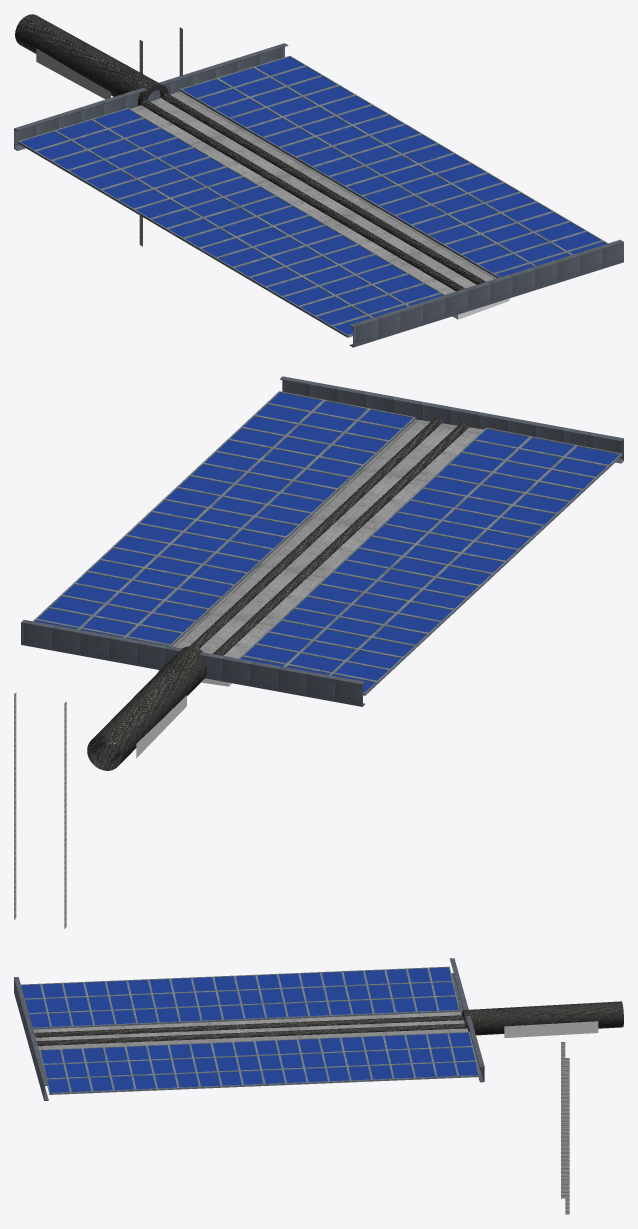
Rendered from Solarteilgr.dae.
3 views of the same model, one above another, from view 1: azimuth 30°, elevation 25°; view 2: azimuth 150°, elevation 25°; view 3: azimuth 270°, elevation 25° (orthographic). The views are drawn at different scales.
Visible parts, largest first — view 1: Komponente (×44); view 2: Komponente (×9); view 3: Komponente (×10).
Part boxes in pixels (<box>): Komponente (×44): <box>14,14,623,347</box>; Komponente (×9): <box>14,376,623,928</box>; Komponente (×10): <box>14,958,623,1214</box>.
Bounding box in the file's own units: 1578 × 3199 × 975.
